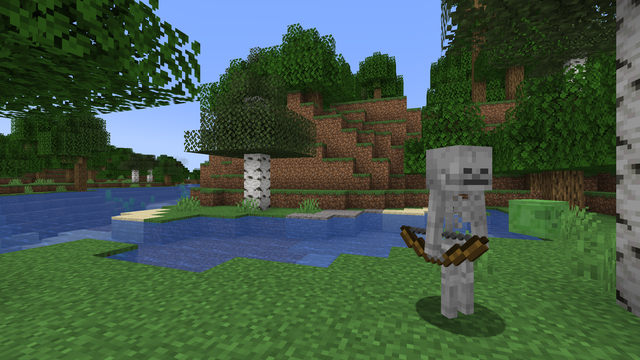slimes: (510, 197, 568, 238)
squelettes: (429, 145, 493, 332)
